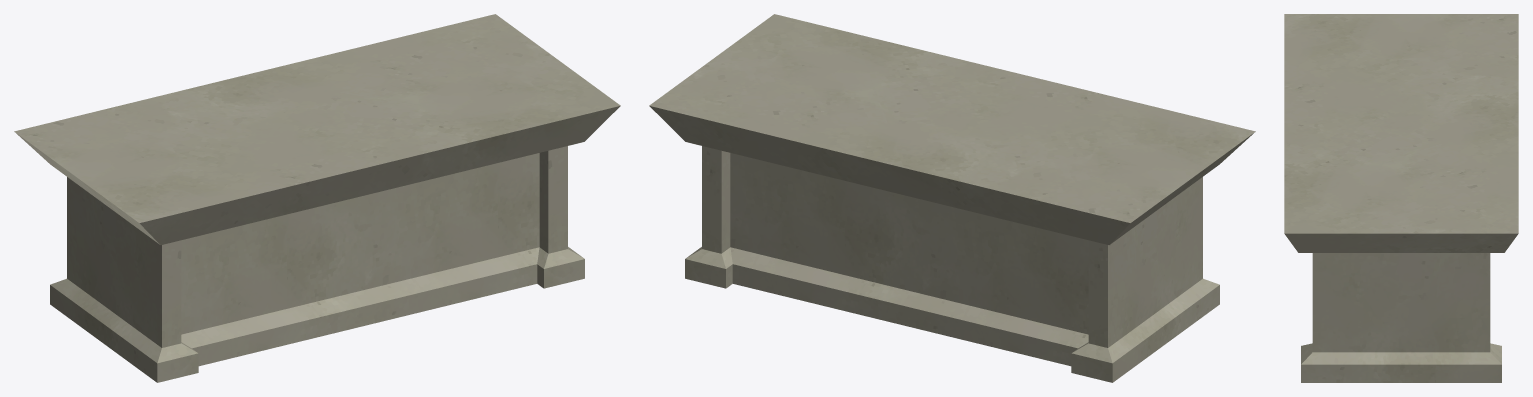
The model's file is Altar.fbx.
3 renders of one model, left to right at view 1: azimuth 30°, elevation 25°; view 2: azimuth 150°, elevation 25°; view 3: azimuth 270°, elevation 25°, orthographic. The views are drawn at different scales.
Parts seen in each view (by area): view 1: SM_CeilingSlant20.021; view 2: SM_CeilingSlant20.021; view 3: SM_CeilingSlant20.021.
Part boxes in pixels (x1,y1,x2,y2): SM_CeilingSlant20.021: (14, 14, 620, 382); SM_CeilingSlant20.021: (649, 14, 1255, 382); SM_CeilingSlant20.021: (1284, 14, 1518, 382).
Size of the model in its own units: 1.43 by 0.4904 by 0.6445.
